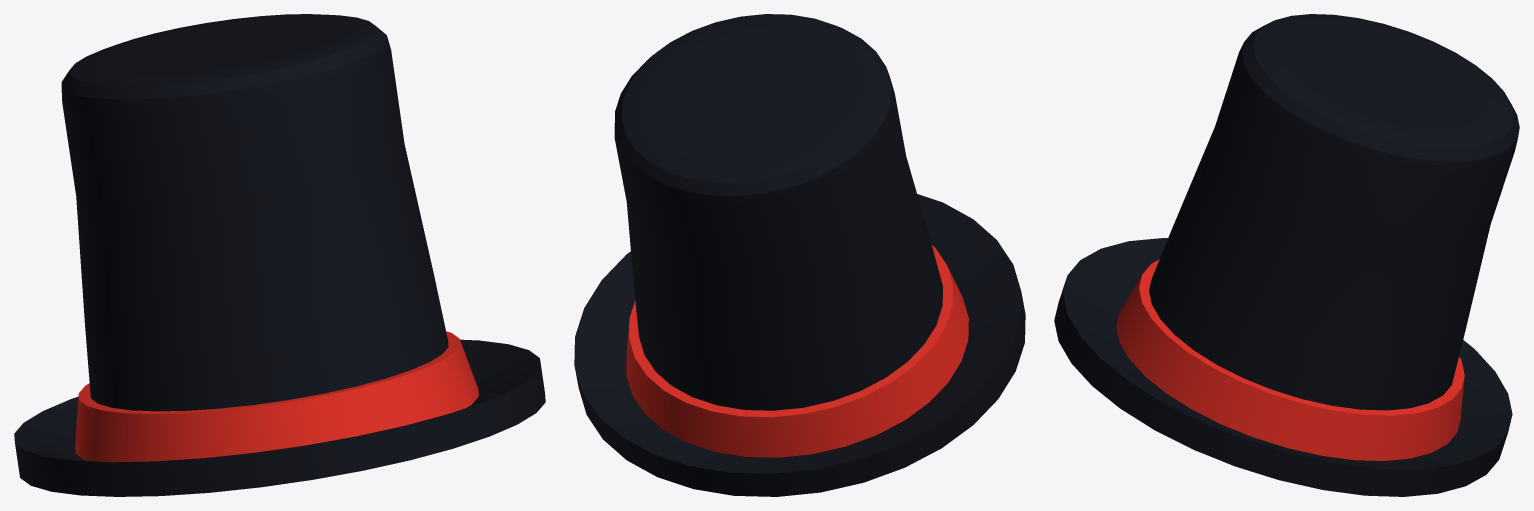
The model's file is Haut_forme.fbx.
The picture shows the model from 3 angles, left to right: view 1: azimuth 30°, elevation 25°; view 2: azimuth 150°, elevation 25°; view 3: azimuth 270°, elevation 25°; orthographic projection. The views are drawn at different scales.
Parts seen in each view (by area): view 1: Cylinder; view 2: Cylinder; view 3: Cylinder.
Boxes of the visible parts, bbox=[...] form: Cylinder: bbox=[14, 14, 545, 496]; Cylinder: bbox=[574, 14, 1025, 496]; Cylinder: bbox=[1054, 14, 1519, 496].
Bounding box in the file's own units: 29.48 × 27.42 × 29.28.
